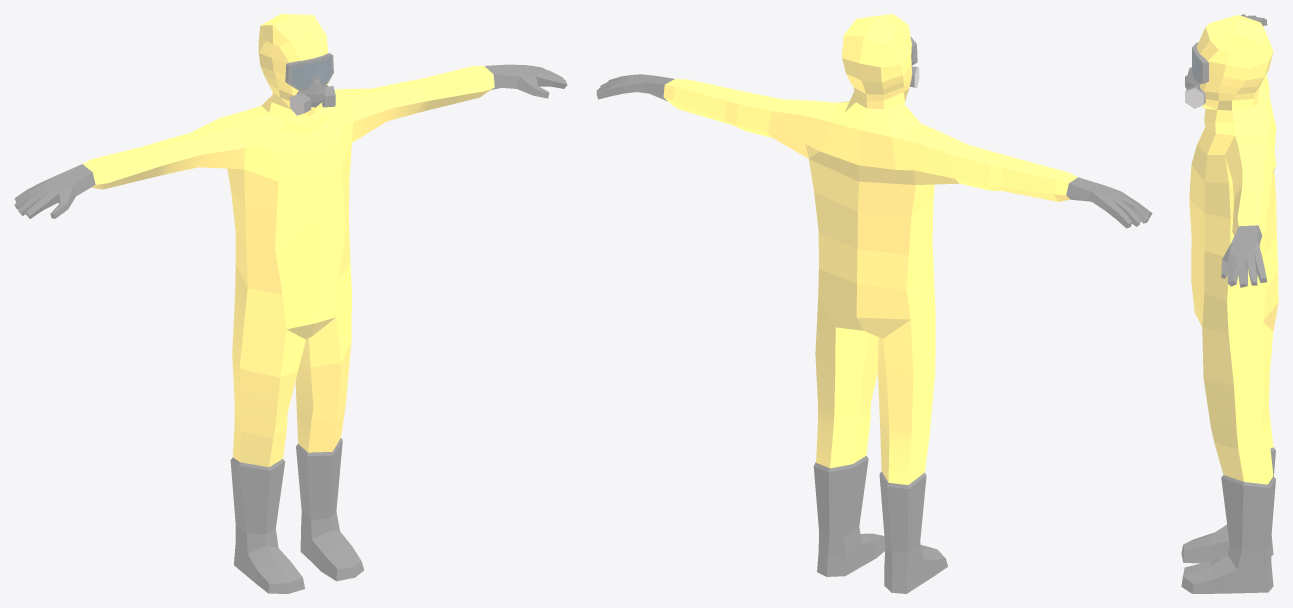
File: 043_man_hazard.gltf
3 views of the same model, side by side, from view 1: azimuth 30°, elevation 25°; view 2: azimuth 150°, elevation 25°; view 3: azimuth 270°, elevation 25° (orthographic).
Visible parts, largest first — view 1: man_hazard; view 2: man_hazard; view 3: man_hazard.
Part boxes in pixels (box(x1,y1,x2,y2)): man_hazard: box(14, 14, 567, 593); man_hazard: box(596, 14, 1152, 593); man_hazard: box(1181, 14, 1278, 593).
Bounding box in the file's own units: 1.87 × 1.81 × 0.2878.
Materials: 1 (1 with a texture image).
